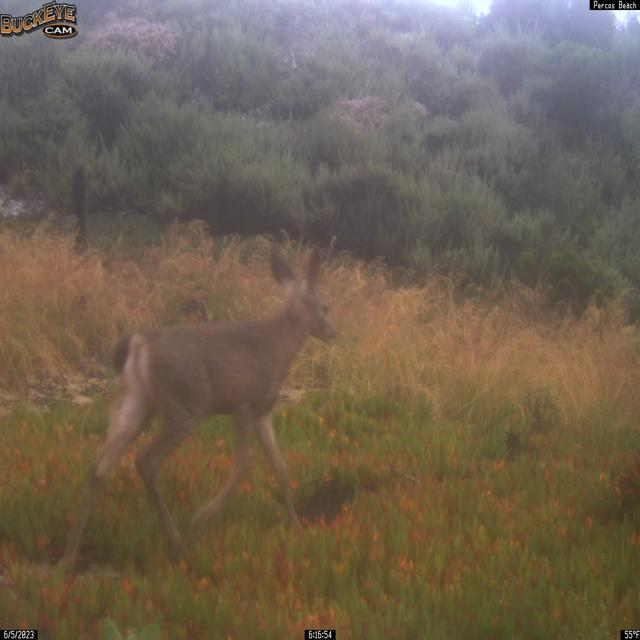deer: (56, 242, 338, 576)
